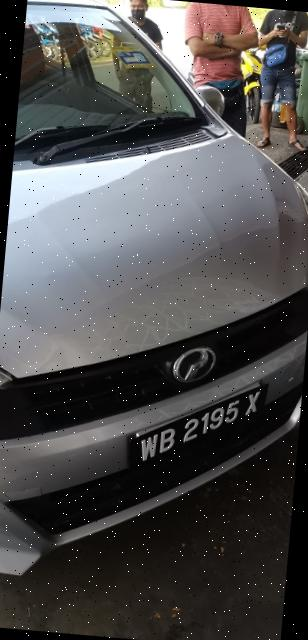License_Plate: (128, 372, 270, 484)
car: (1, 1, 308, 597)
